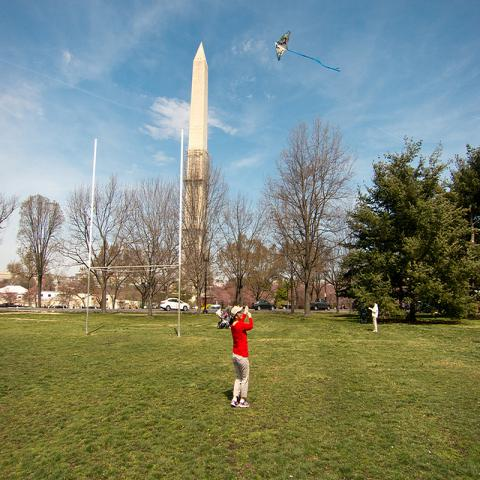car: (159, 297, 190, 312), (252, 300, 277, 311), (207, 305, 222, 310)
truck: (310, 298, 330, 310)
